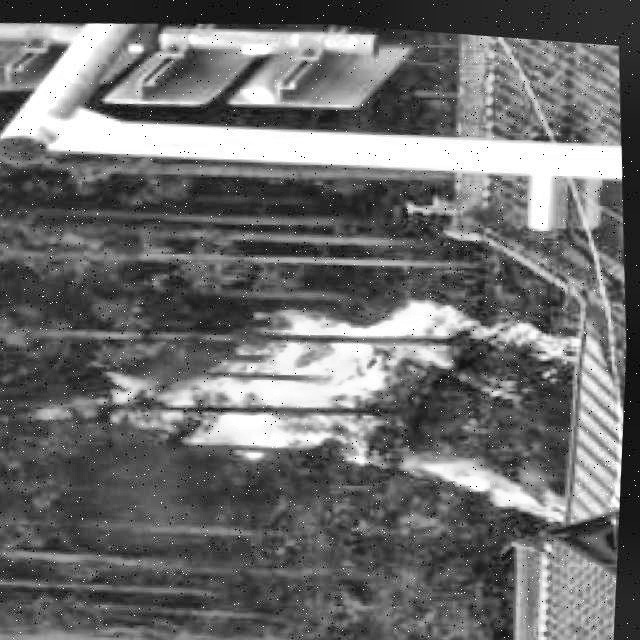Fire: (72, 248, 589, 555)
